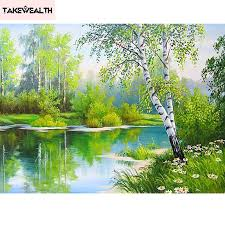lake: (6, 115, 178, 195)
tree: (115, 27, 192, 159), (25, 30, 77, 112)
